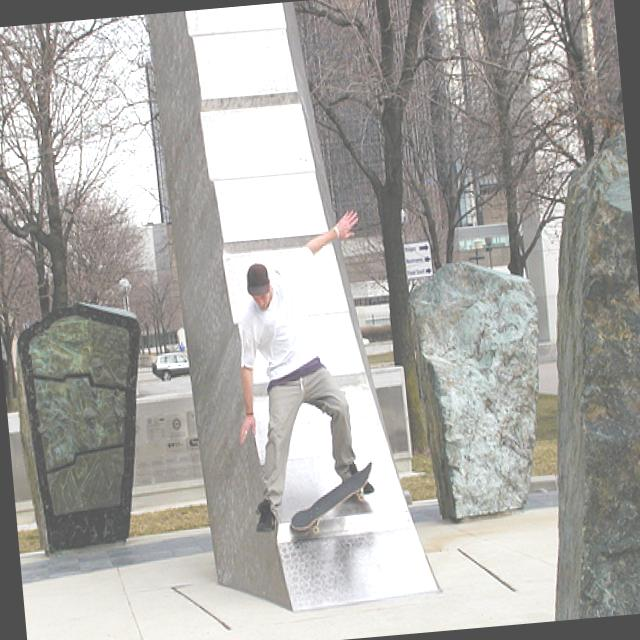Vehicle: (150, 352, 190, 384)
